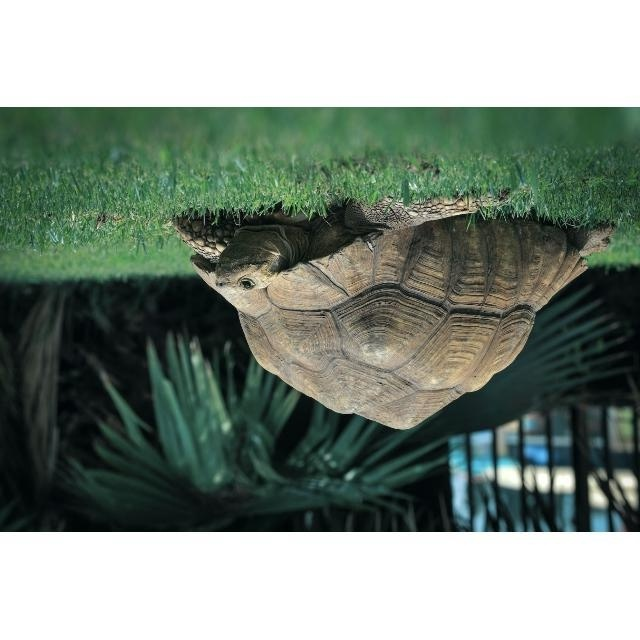turtle: (170, 193, 618, 431)
